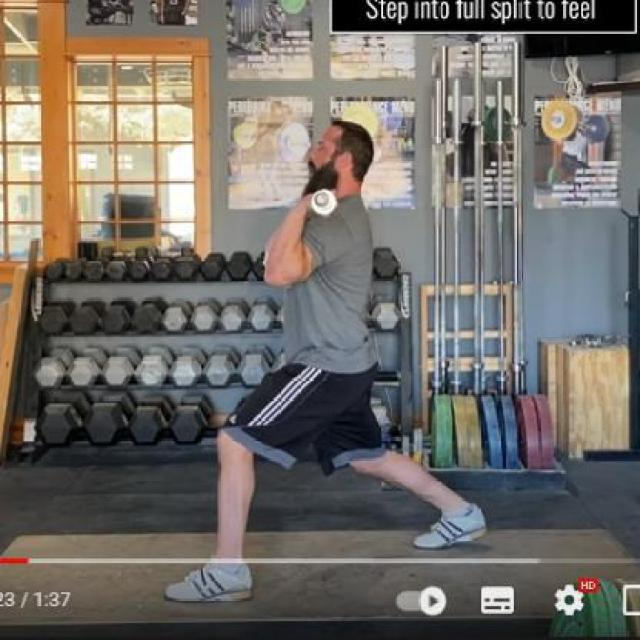Barbell: (313, 188, 332, 210)
